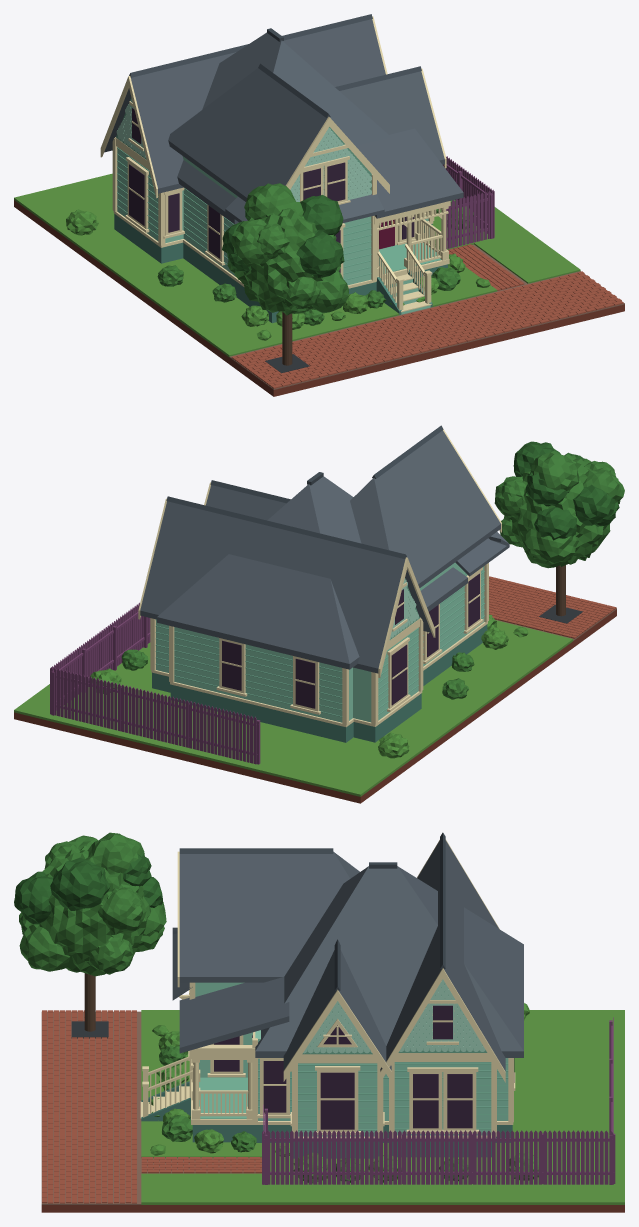
Rendered from victorian-cottage-26.glb.
The picture shows the model from 3 angles, top to bottom: view 1: azimuth 30°, elevation 25°; view 2: azimuth 150°, elevation 25°; view 3: azimuth 270°, elevation 25°; orthographic projection. The views are drawn at different scales.
Parts seen in each view (by area): view 1: roof, grass, brick, trim, leaf, wall, brick_dk, leaf2, glass, fence, found, shrub2 (+6 smaller); view 2: roof, grass, fence, wall, trim, leaf, found, brick_dk, leaf2, brick, glass, siding (+4 smaller); view 3: roof, grass, brick, fence, trim, leaf, glass, wall, leaf2, brick_dk, mortar, shingle (+8 smaller).
Boxes of the visible parts, x1,y1,x2,y2 form: roof: (104, 19, 463, 224); grass: (14, 173, 580, 356); brick: (231, 244, 623, 388); trim: (100, 16, 450, 312); leaf: (227, 183, 348, 315); wall: (117, 128, 430, 314); brick_dk: (14, 200, 624, 396); leaf2: (222, 195, 344, 277); glass: (129, 108, 414, 272); fence: (443, 156, 494, 249); found: (114, 214, 447, 323); shrub2: (66, 204, 490, 340); roof: (140, 430, 509, 673); grass: (14, 620, 573, 796); fence: (50, 602, 260, 764); wall: (156, 562, 484, 722); trim: (138, 429, 501, 727); leaf: (494, 451, 624, 568); found: (152, 624, 487, 742); brick_dk: (14, 609, 616, 803); leaf2: (513, 441, 619, 540); brick: (489, 576, 616, 638); glass: (222, 573, 479, 708); siding: (155, 566, 484, 717); roof: (172, 840, 523, 1071); grass: (141, 1010, 624, 1204); brick: (42, 1010, 261, 1203); fence: (262, 1017, 615, 1184); trim: (140, 839, 515, 1138); leaf: (19, 832, 166, 976); glass: (214, 1005, 514, 1129); wall: (195, 982, 508, 1136); leaf2: (14, 851, 162, 924); brick_dk: (41, 1205, 624, 1212); mortar: (41, 1011, 261, 1204); shingle: (303, 979, 485, 1053).
Size of the model in its own units: 17 by 9.35 by 21.48.
